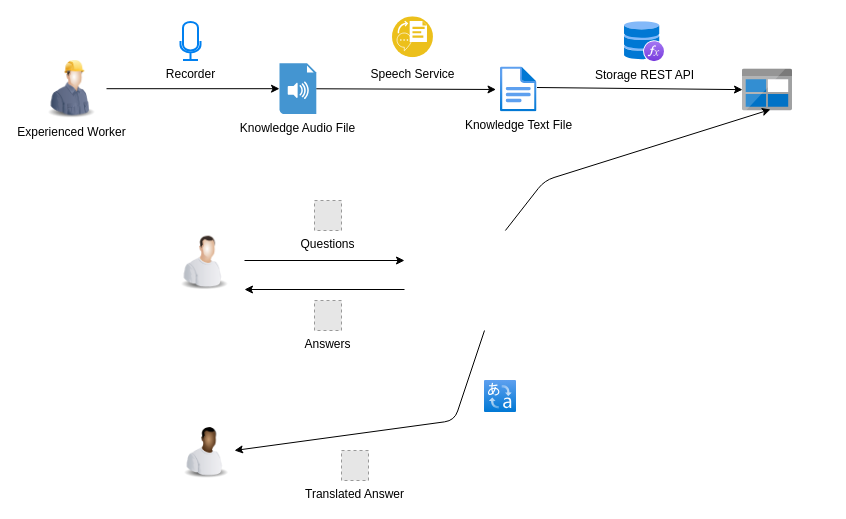
This 846x519 diagram has some shape labels left out. Grey dashed boxes stand in for pictures. Each missing label, with the box of its shape:
AI Translator: (484, 380, 516, 412)
Azure Storage Account: (742, 68, 792, 110)
Newcomers: (174, 230, 234, 290)
Newcomers(foreign): (178, 420, 234, 480)
